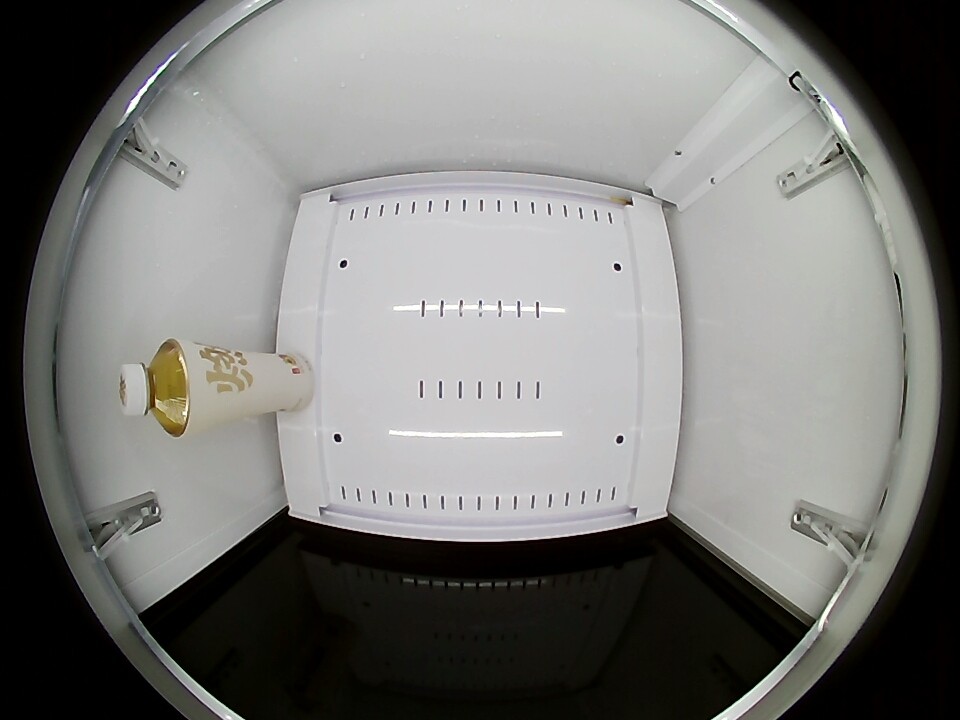rancha-2: (118, 339, 196, 436)
